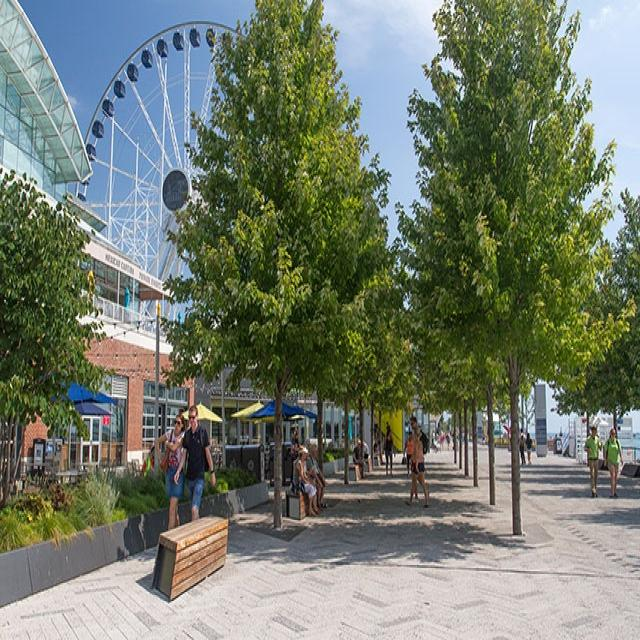body: (173, 405, 217, 523), (154, 412, 186, 532), (404, 424, 431, 510), (580, 424, 604, 501), (295, 445, 320, 517), (305, 442, 330, 510), (602, 426, 624, 500), (408, 415, 422, 502), (426, 426, 459, 452), (382, 430, 398, 478), (141, 445, 164, 474), (352, 438, 367, 481), (403, 430, 415, 478), (524, 432, 535, 468), (290, 422, 299, 462), (517, 434, 527, 468), (353, 441, 365, 469), (370, 440, 381, 468), (553, 422, 565, 443), (385, 420, 391, 436), (519, 427, 526, 439)
